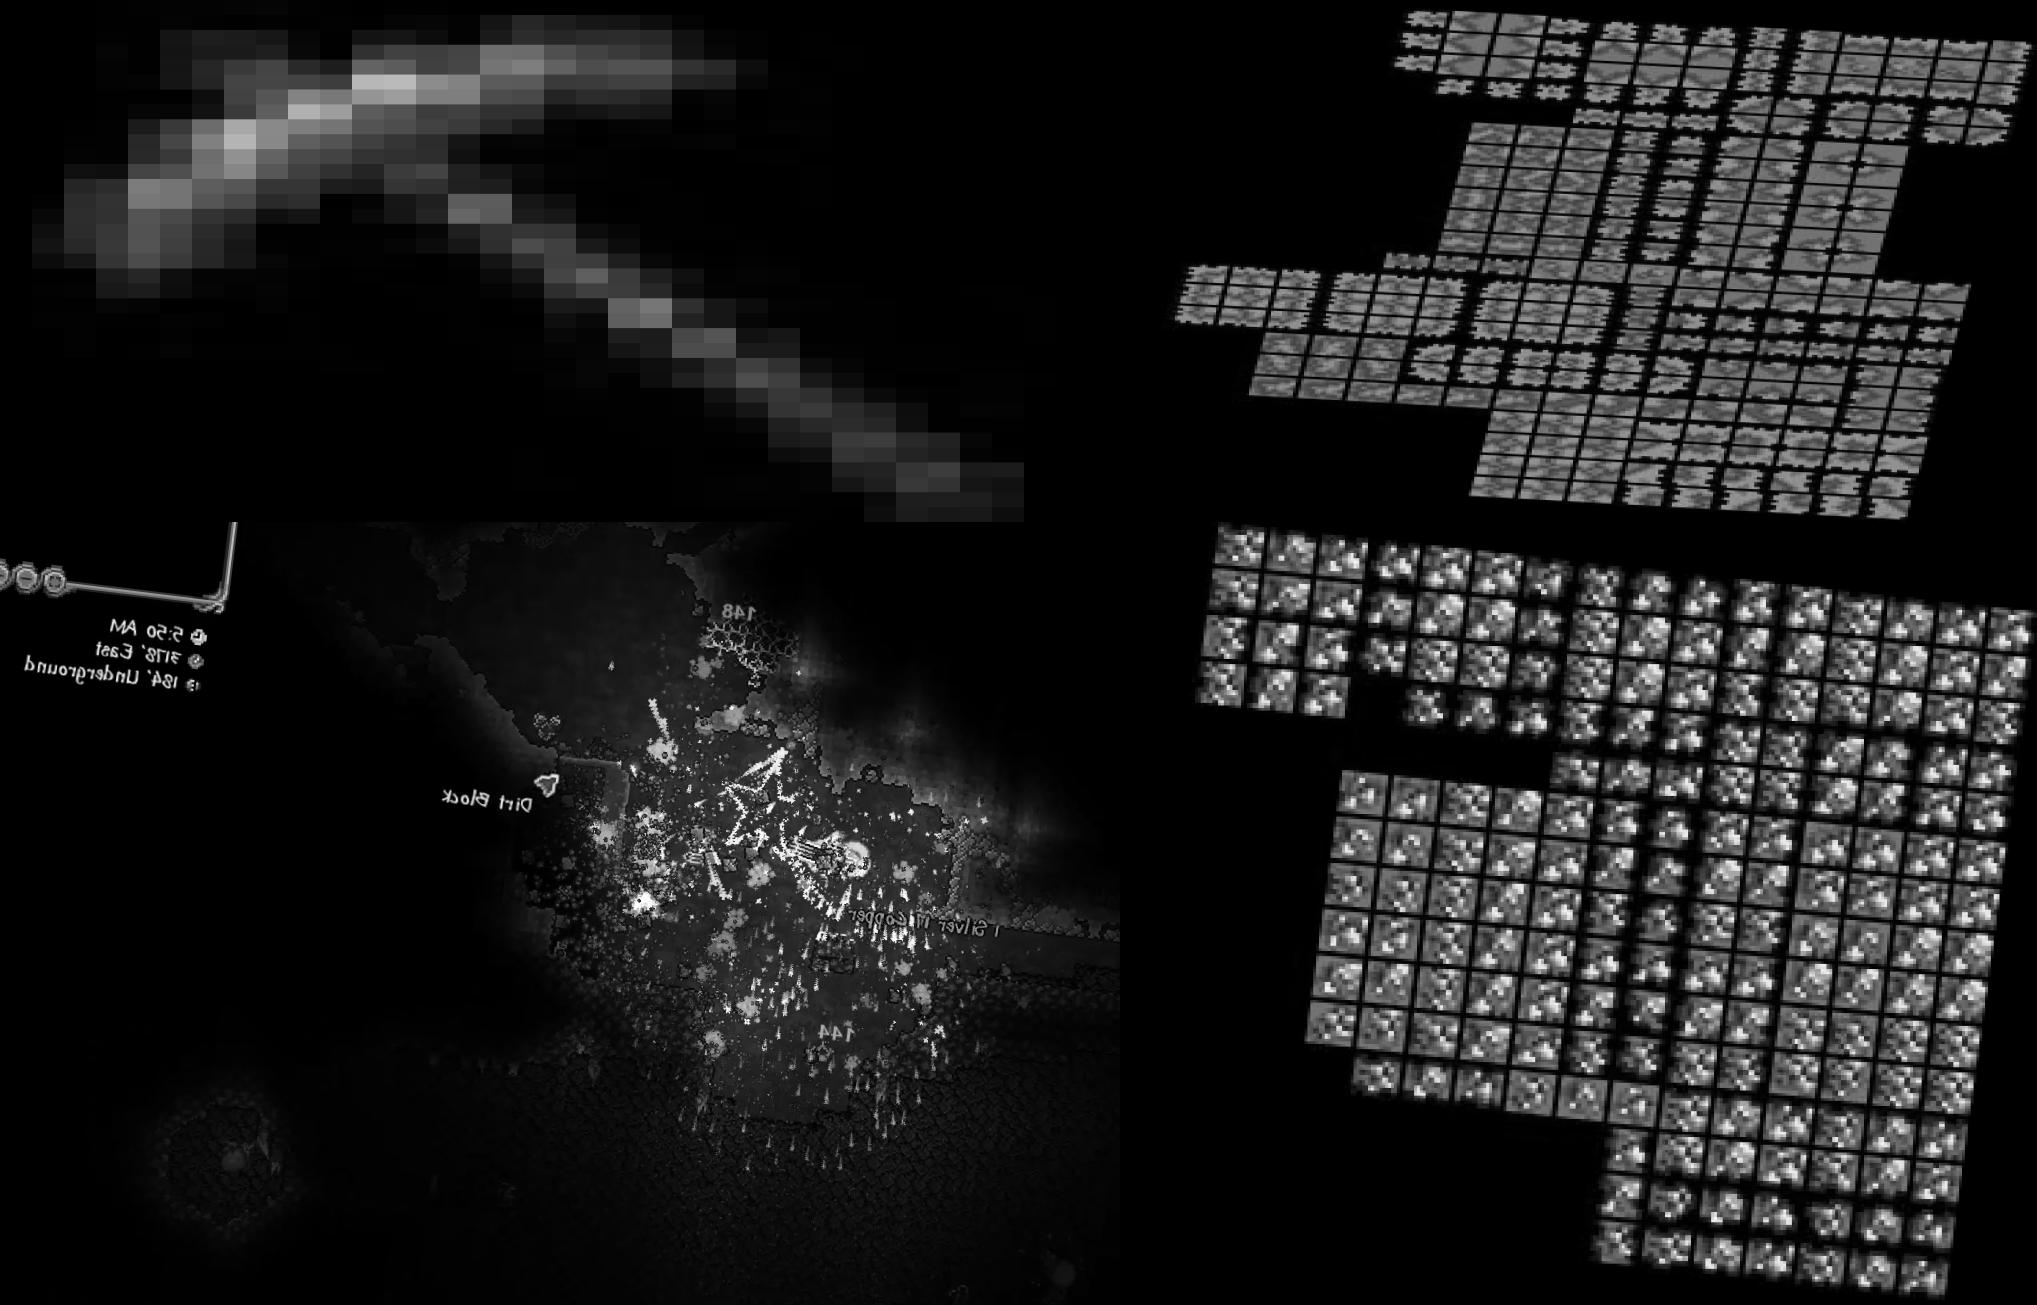ebony: (1985, 40, 2037, 64)
iron: (1979, 607, 2037, 656)
pickaxe: (0, 0, 1119, 523)
